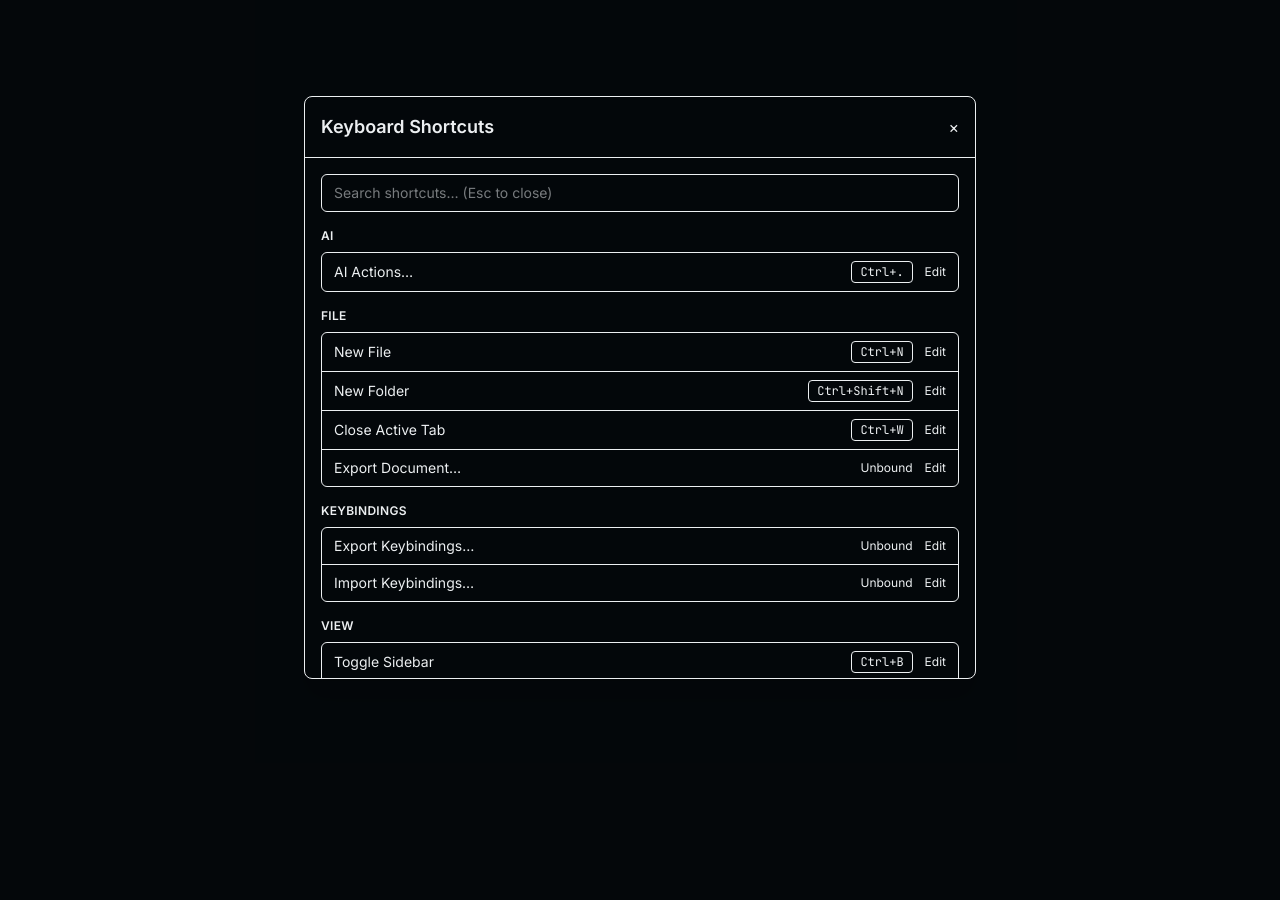
Test: KeybindingSheet › filters the list via the search box
The width and height of the screenshot is (1280, 900).
Type "zzz-no-such-command" into the search field labelled "Search shortcuts" at coordinates (640, 193), box [321,174,959,212]
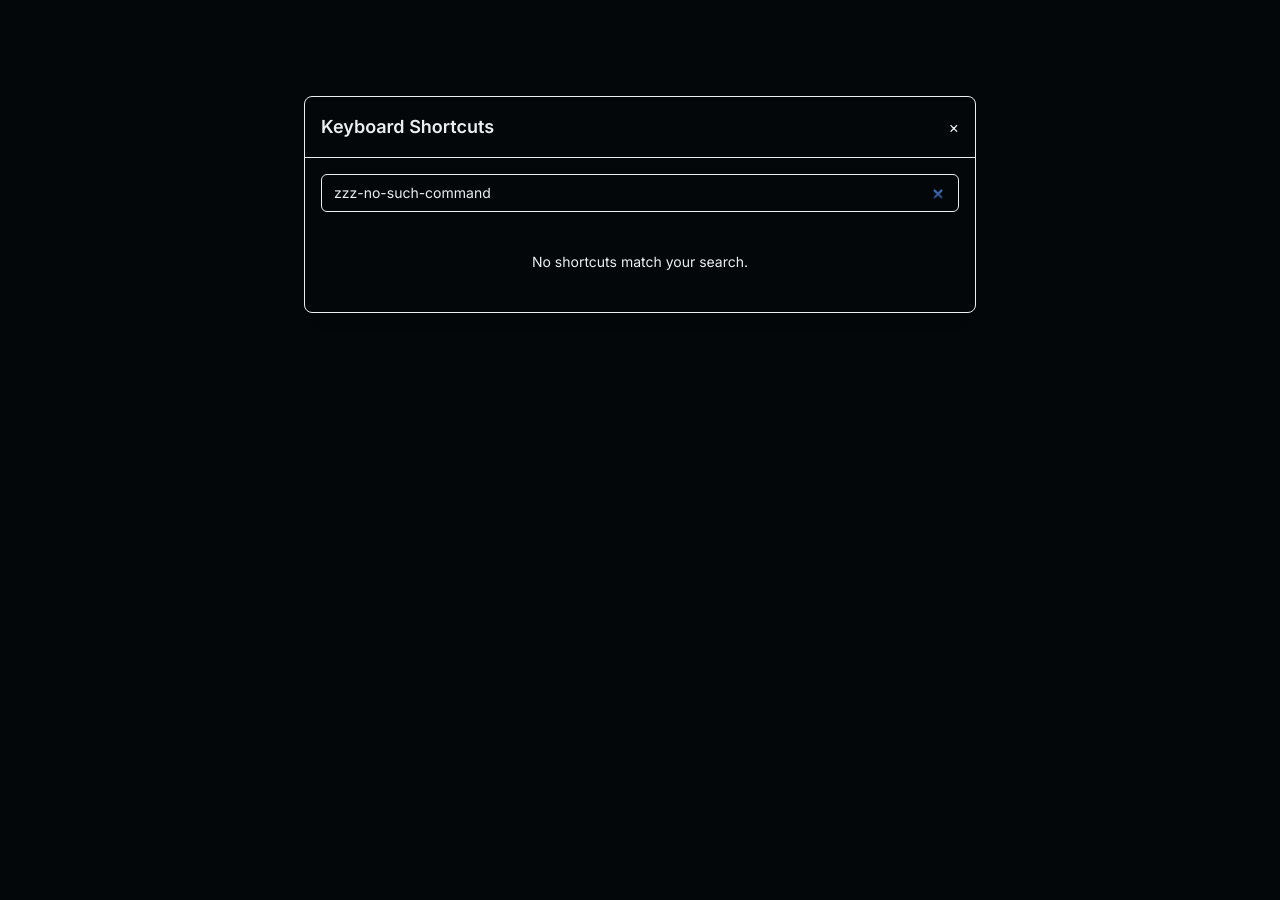
Check: the text "No shortcuts match your search." is shown, box [532,253,748,270]
